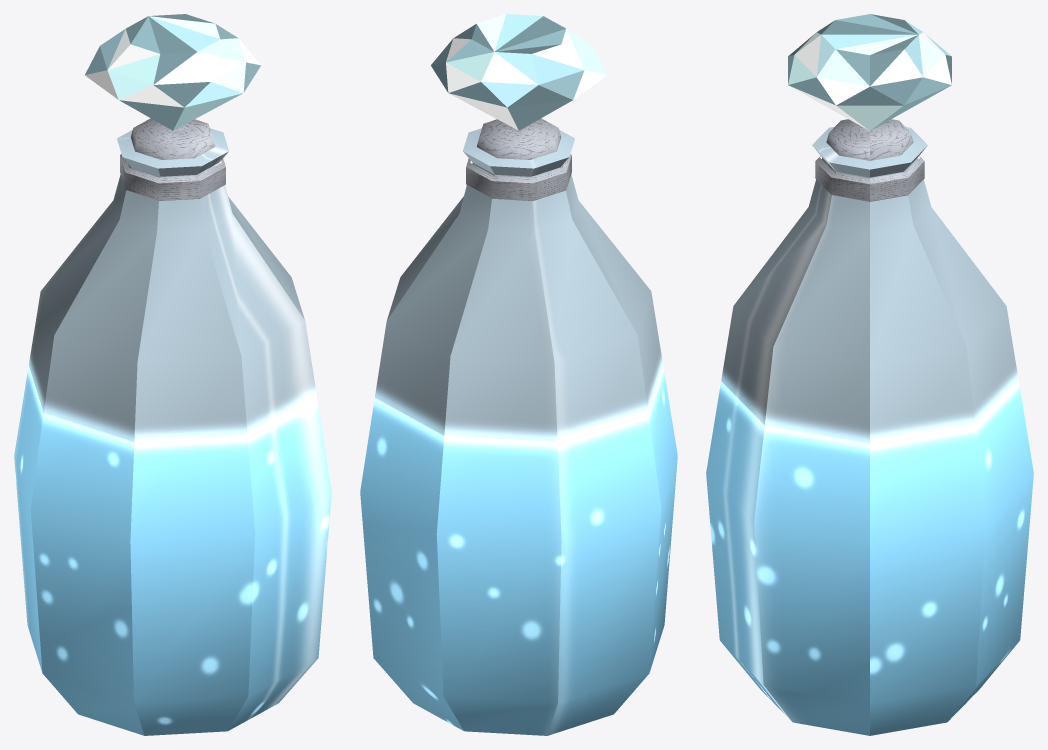
File: ElixirOfClarity.glb
The picture shows the model from 3 angles, left to right: view 1: azimuth 30°, elevation 25°; view 2: azimuth 150°, elevation 25°; view 3: azimuth 270°, elevation 25°; orthographic projection.
Visible parts, largest first — view 1: ElixirOfClarity; view 2: ElixirOfClarity; view 3: ElixirOfClarity.
Part boxes in pixels (box(x1,y1,x2,y2)): ElixirOfClarity: box(14, 14, 331, 735); ElixirOfClarity: box(360, 14, 677, 735); ElixirOfClarity: box(706, 14, 1033, 735).
Size of the model in its own units: 0.48 by 1.06 by 0.48.
1 material, 1 textured.
